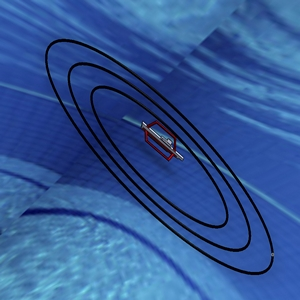circle: (26, 27, 286, 283)
submarine: (132, 116, 189, 169)
